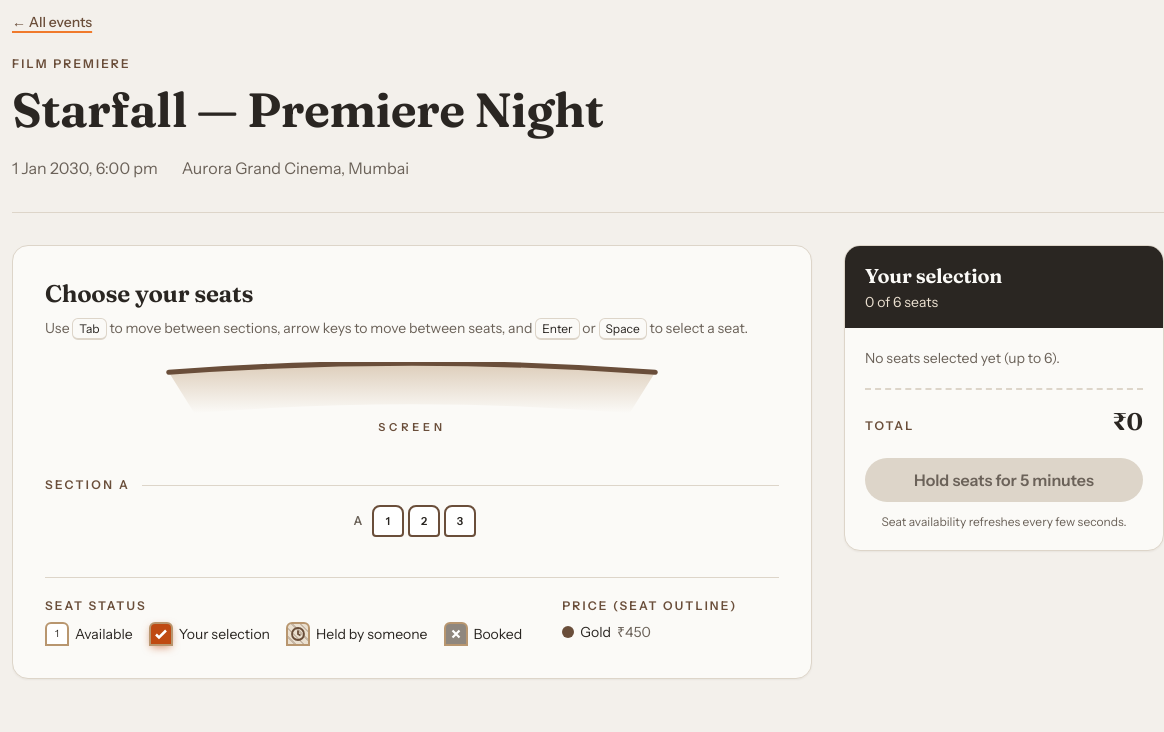
EventDetailPage › on success saves the hold and goes to checkout
Click the button named "Section A, Row A, Seat 1, ₹450, available": (388, 521) [372,505,404,537]
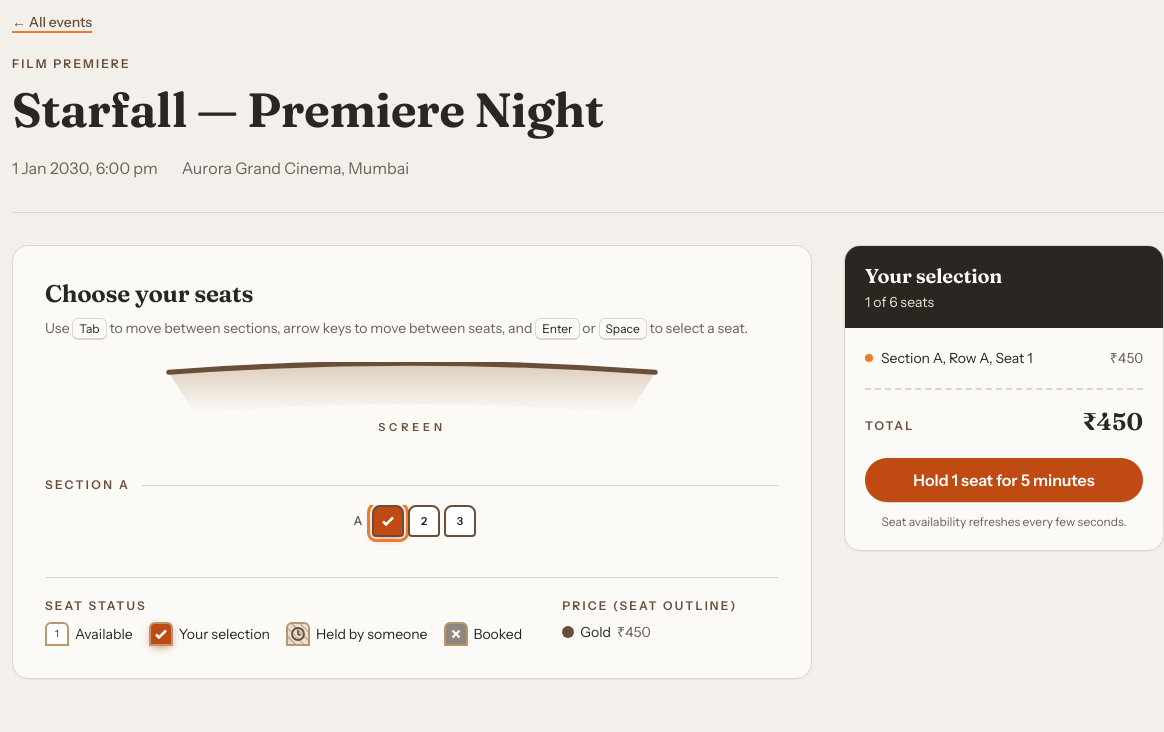
Click the button "Hold 1 seat for 5 minutes": (1004, 480) [865,458,1143,502]
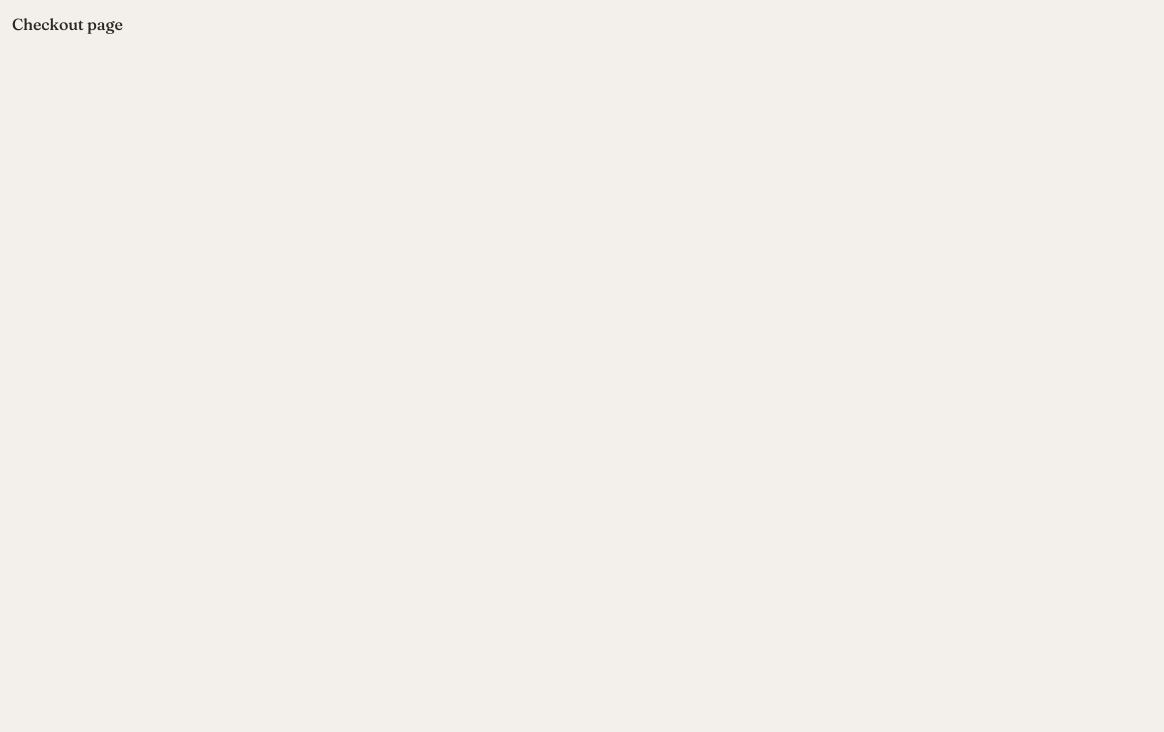
Expected: the heading "Checkout page" is shown, [12,14,123,34]
